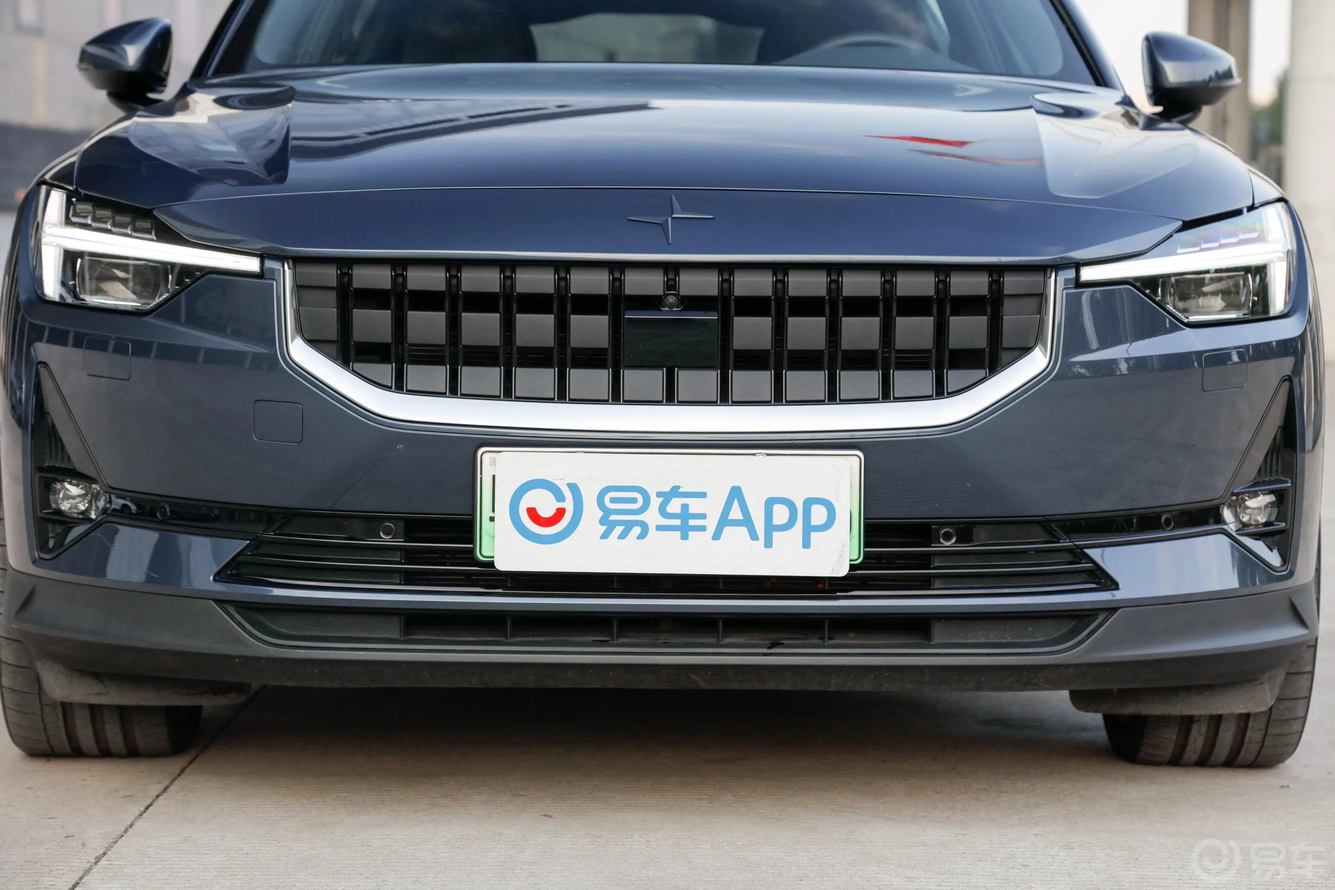Polestar: (628, 195, 715, 244)
